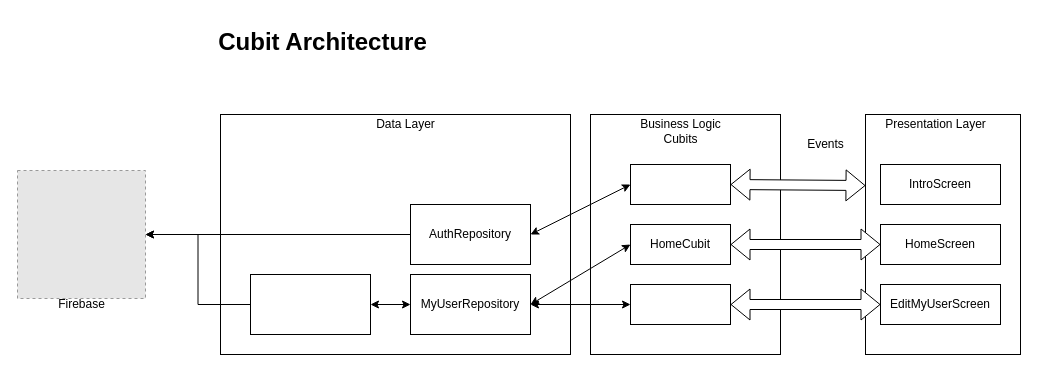
Image size: 1038x372. Some labels were removed from this diagram. Grey dashed boxes stand in for pictures. The centre of each missing label's shape, as x and y in pixels:
AuthCubit: the point at 680,184
EditMyUserCubit: the point at 680,304
FirebaseDataSource: the point at 310,304
